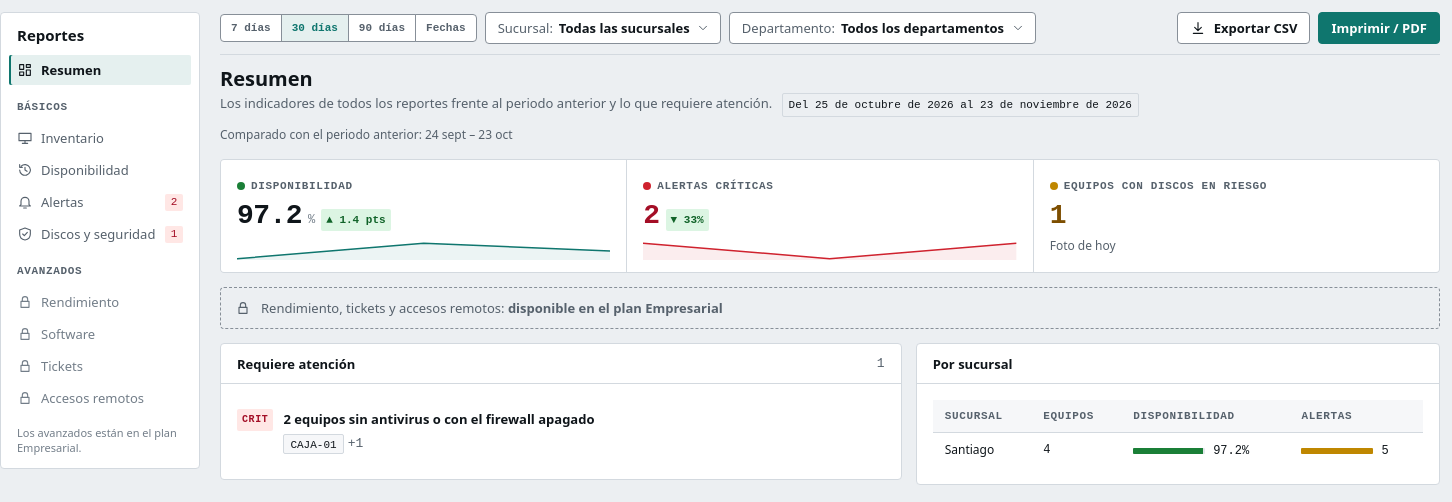
Test: Reportes (W-35, decisión 92) › sin el módulo, los reportes avanzados quedan con candado
This screenshot has width=1452, height=502.
Click the button "Rendimiento". click: click(100, 302)
box: [9,287,191,317]
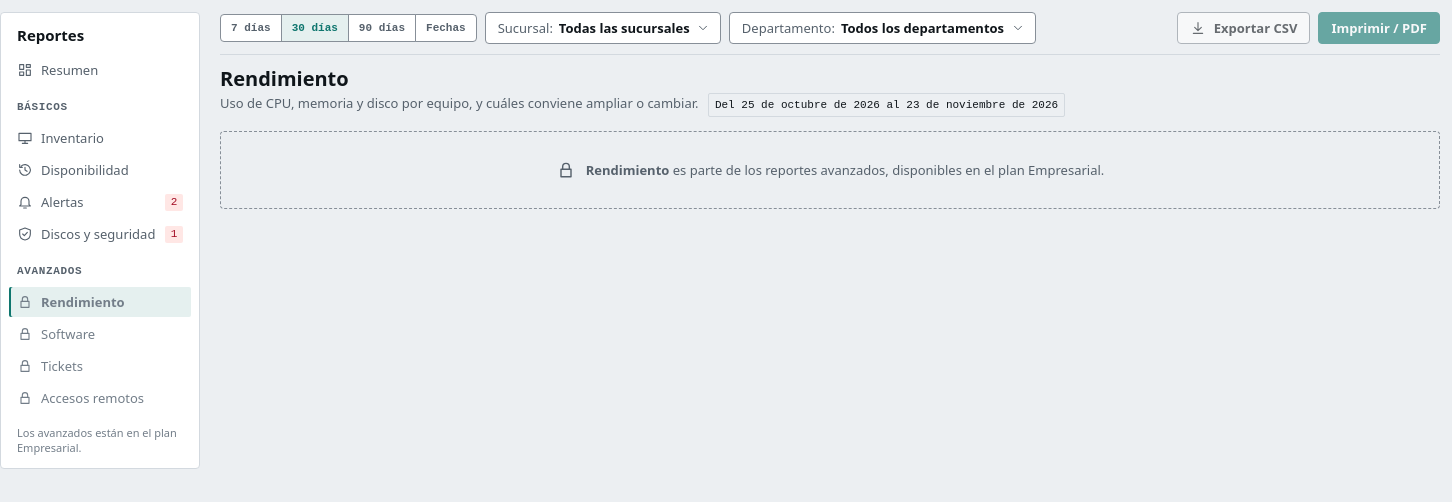
Check: the text "es parte de los reportes avanzados" is shown, box [669,161,1104,179]
